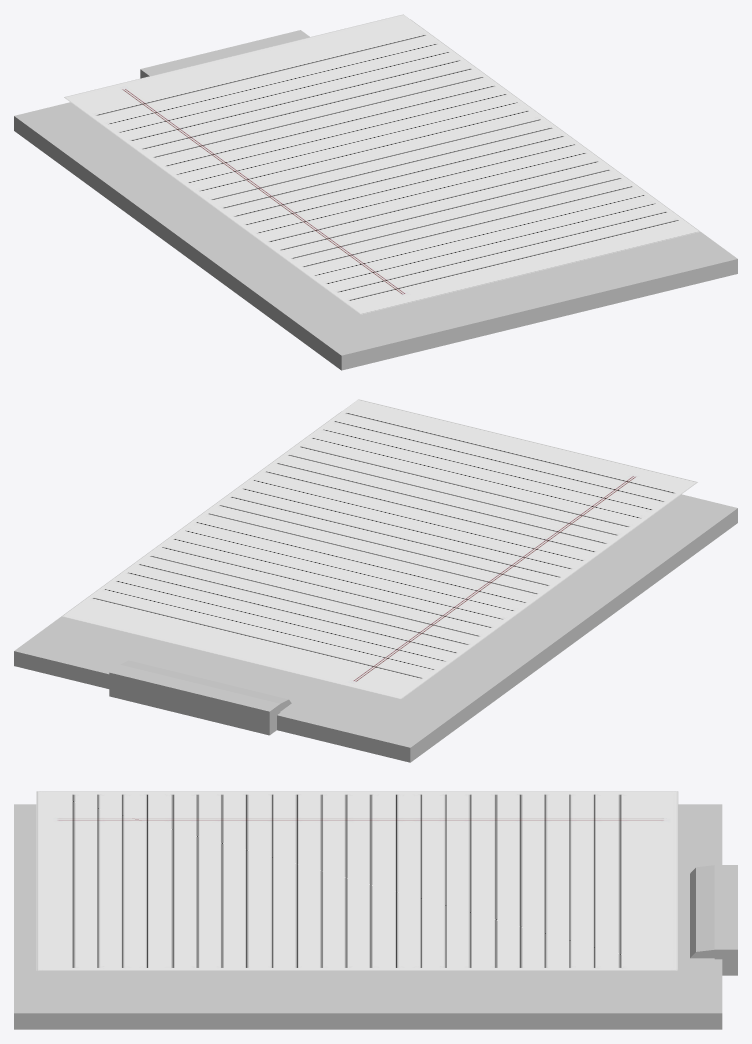
The model's file is Clipboard.fbx.
The picture shows the model from 3 angles, top to bottom: view 1: azimuth 30°, elevation 25°; view 2: azimuth 150°, elevation 25°; view 3: azimuth 270°, elevation 25°; orthographic projection. The views are drawn at different scales.
Visible parts, largest first — view 1: Paper, clip board, Clip; view 2: Paper, clip board, Clip; view 3: Paper, clip board, Clip.
Part boxes in pixels (x1=…): Paper: x1=64, y1=14, x2=699, y2=314; clip board: x1=14, y1=19, x2=737, y2=370; Clip: x1=140, y1=30, x2=309, y2=78; Paper: x1=62, y1=399, x2=697, y2=699; clip board: x1=14, y1=411, x2=737, y2=762; Clip: x1=109, y1=660, x2=291, y2=735; Paper: x1=36, y1=791, x2=678, y2=970; clip board: x1=14, y1=804, x2=722, y2=1029; Clip: x1=690, y1=865, x2=737, y2=975.
Size of the model in its own units: 15.08 by 1.5 by 22.06.
Materials: 1 (1 with a texture image).
